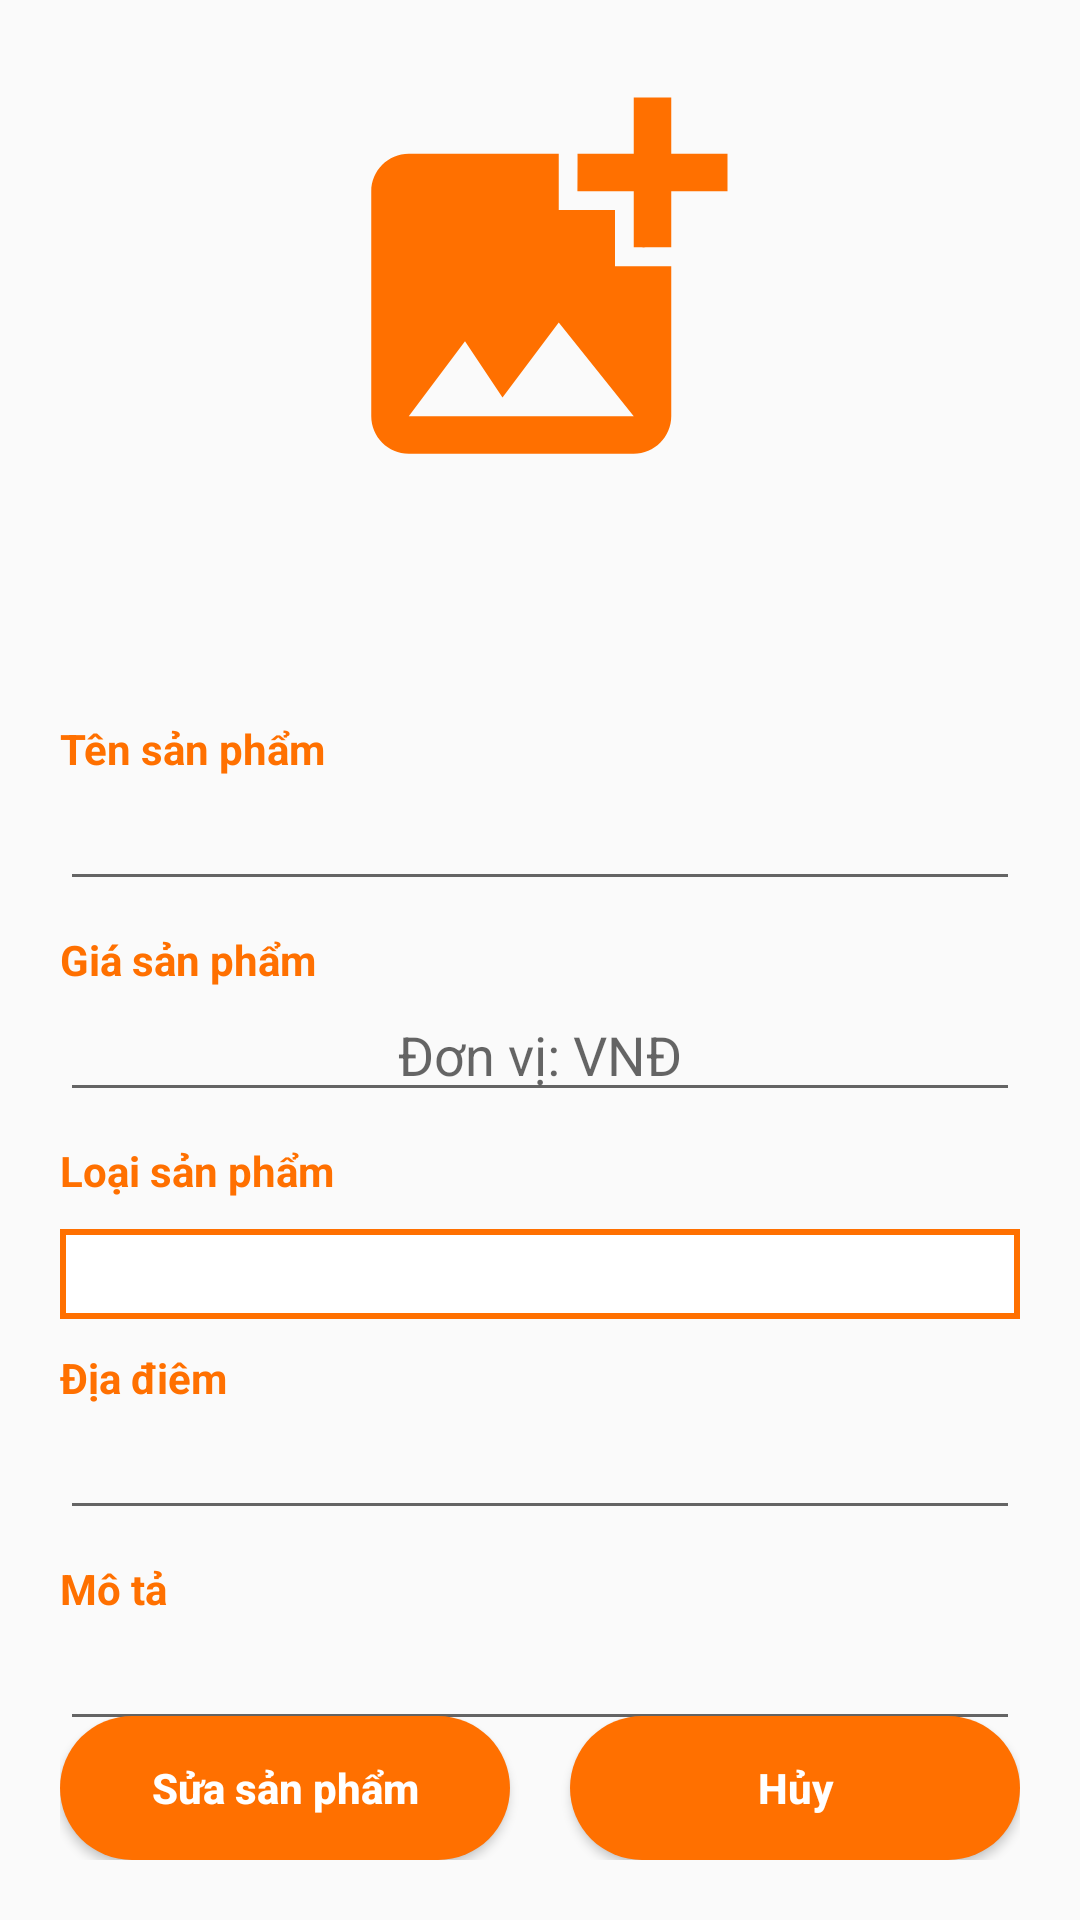

Point at icon controls on the screen. Image size 1080w x 1920h, points as point (x, y).
addimageorange: point (549, 275)
